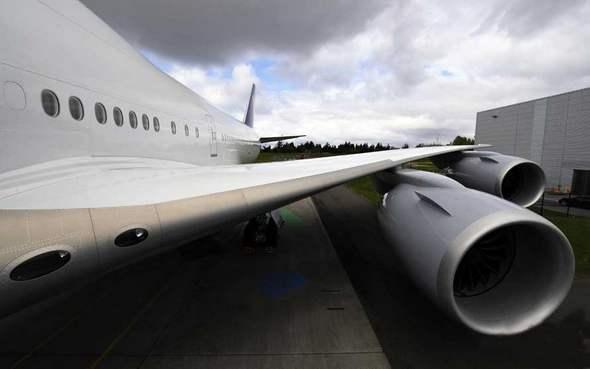airplane: (1, 1, 576, 340)
